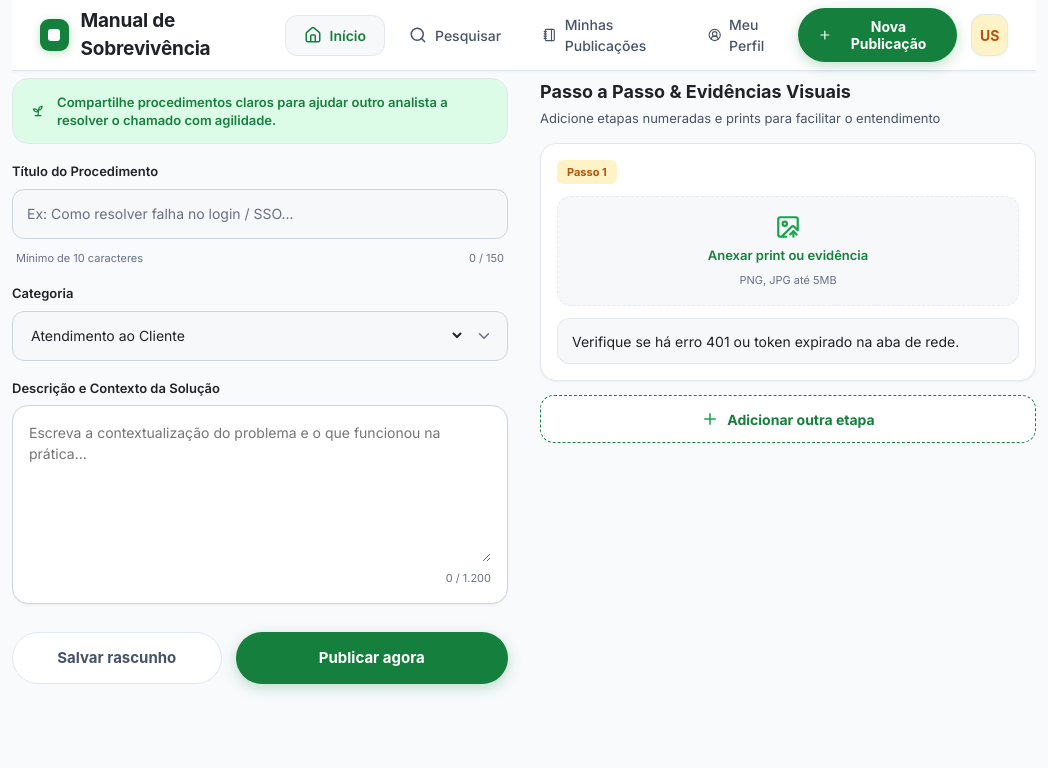
Test case: NewPublication Page › valida título obrigatório ao clicar em publicar agora sem preencher
(page scrolled)
Click the button "Publicar agora": (372, 658) [236,632,508,684]
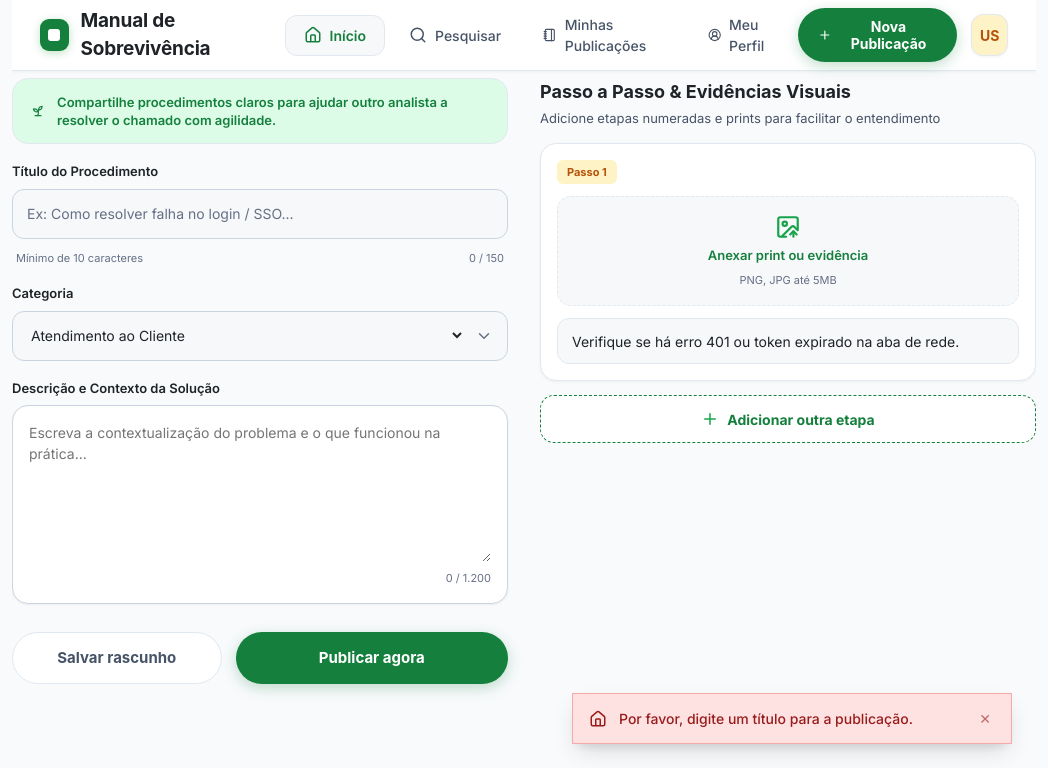
Check: the text "Por favor, digite um título para a publicação." is shown, box [619,709,963,728]
